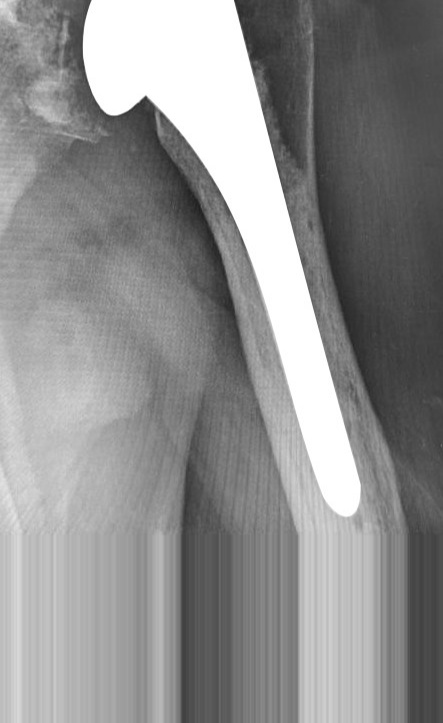Shoulder - Anotomyhead - Stryker: (80, 2, 220, 124)
Shoulder - Anotomytail - Stryker: (114, 5, 321, 302)
